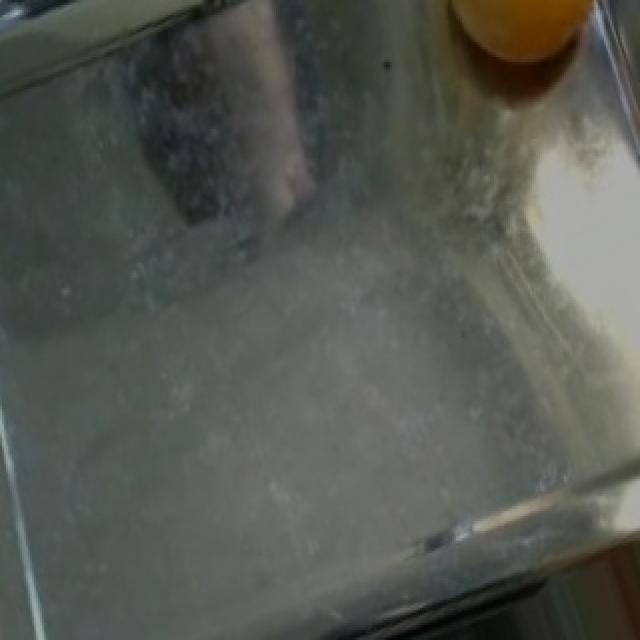Fruit: (420, 0, 620, 89)
